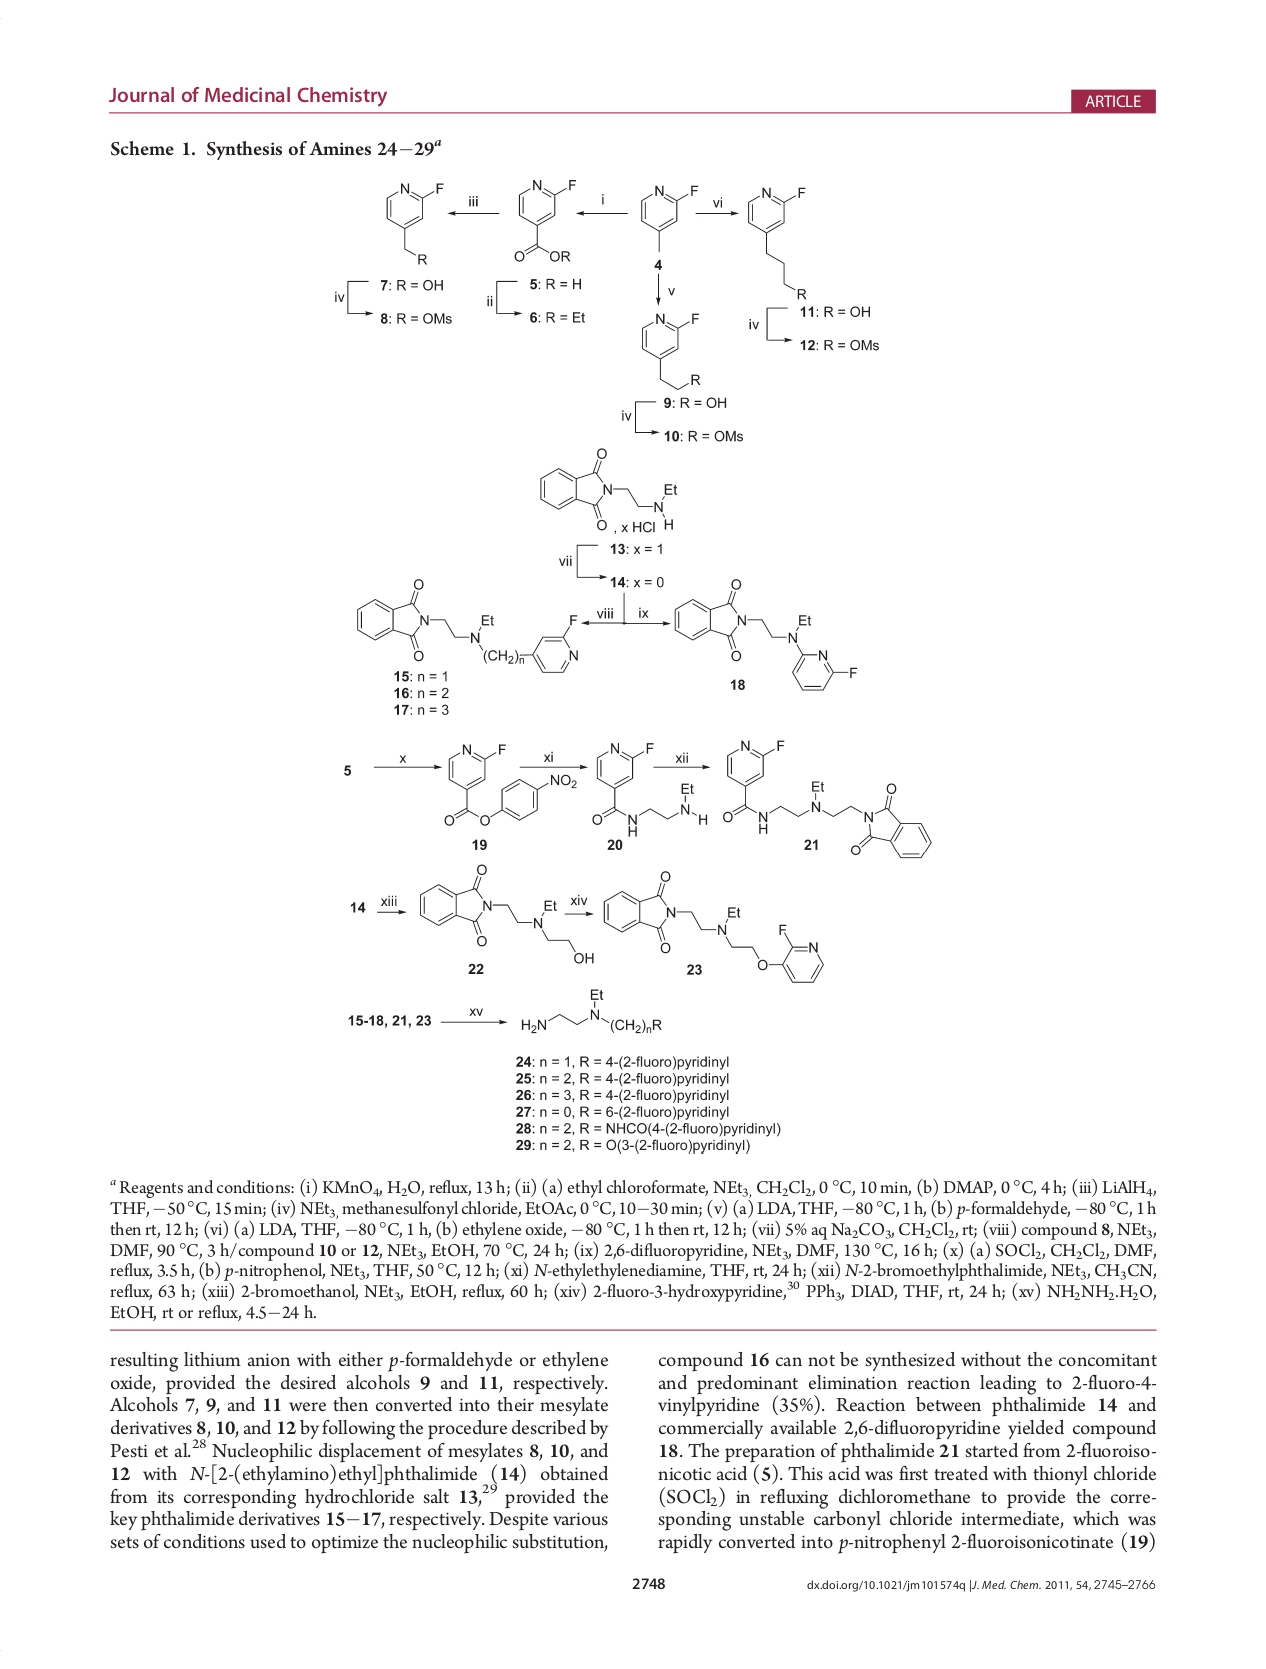exist_molecular: (589, 735, 935, 862), (600, 868, 827, 984), (670, 575, 859, 696), (354, 575, 580, 676), (416, 862, 596, 967), (535, 444, 680, 535), (438, 739, 577, 826), (741, 180, 821, 301), (516, 984, 664, 1033), (505, 177, 580, 266), (636, 309, 707, 392), (382, 178, 444, 266), (636, 177, 699, 253)
